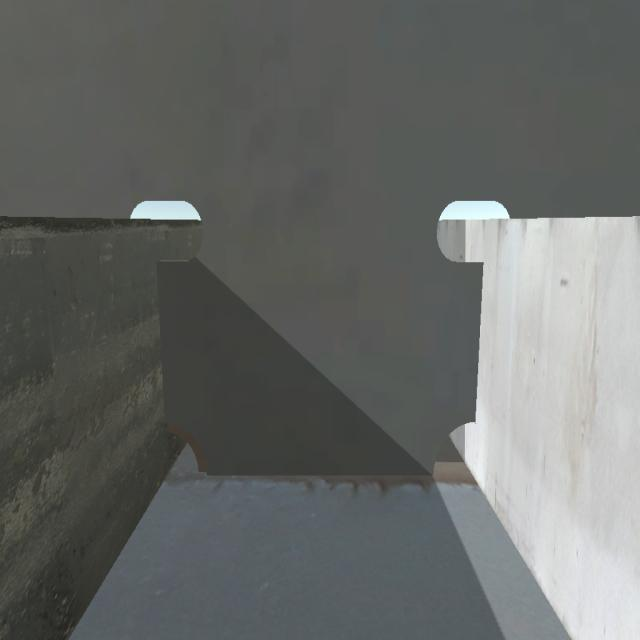fillet_hole: (430, 414, 479, 486), (167, 423, 202, 495)
fillet_yong_jeop_jang: (200, 461, 445, 481)
longi_yong_jeop_jang: (468, 259, 496, 409), (156, 262, 174, 430)
